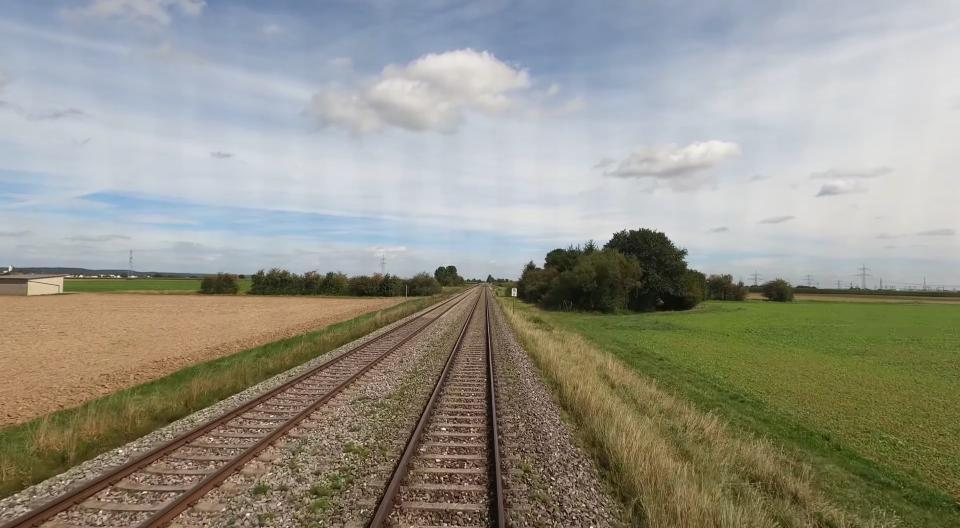Plant: (285, 464, 357, 528), (343, 441, 369, 458), (258, 511, 278, 528), (531, 493, 551, 506), (251, 483, 271, 495), (288, 453, 298, 471), (377, 445, 388, 456), (277, 484, 289, 492), (522, 464, 532, 473), (348, 425, 360, 432), (311, 469, 322, 476), (513, 473, 522, 479)
